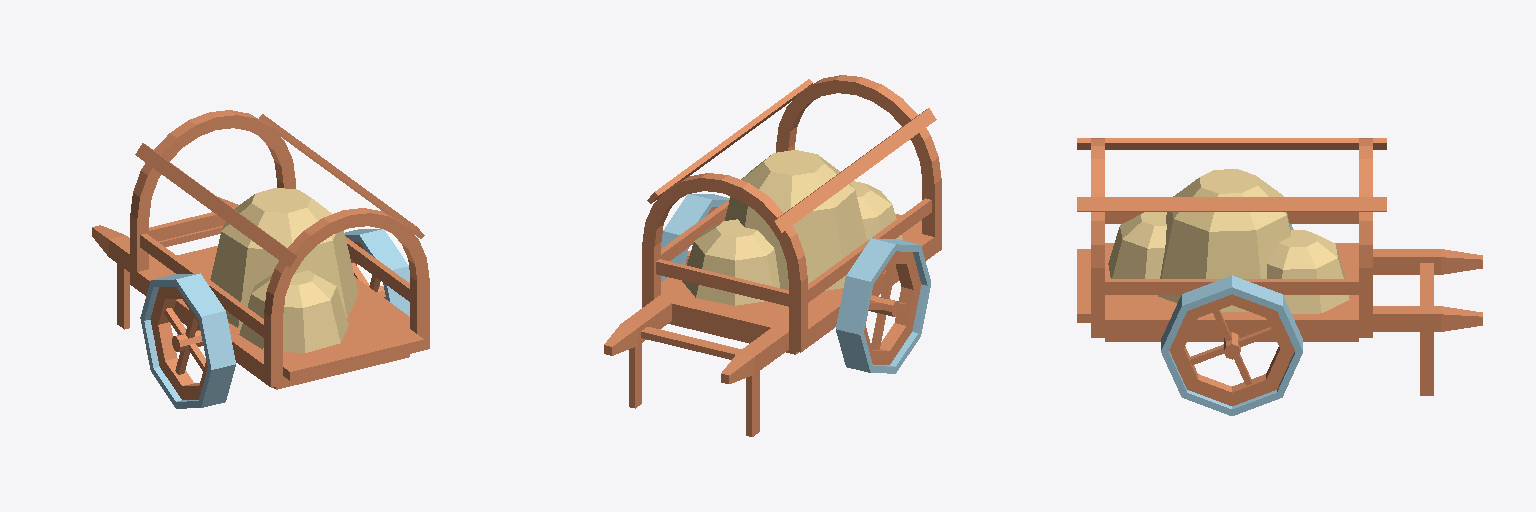
Rendered from cartHigh.obj.
The picture shows the model from 3 angles: view 1: azimuth 30°, elevation 25°; view 2: azimuth 150°, elevation 25°; view 3: azimuth 270°, elevation 25°; orthographic projection.
Visible parts, largest first — view 1: cartHigh, hay, wheel; view 2: cartHigh, hay, wheel; view 3: cartHigh, hay, wheel.
Part boxes in pixels (x1,y1,x2,y2): cartHigh: (92, 110, 429, 389); hay: (210, 188, 358, 352); wheel: (140, 229, 409, 408); cartHigh: (604, 75, 941, 436); hay: (682, 150, 902, 305); wheel: (661, 194, 930, 373); cartHigh: (1077, 138, 1482, 395); hay: (1108, 169, 1349, 313); wheel: (1161, 224, 1302, 415).
Size of the model in its own units: 0.8525 by 0.8605 by 1.44.